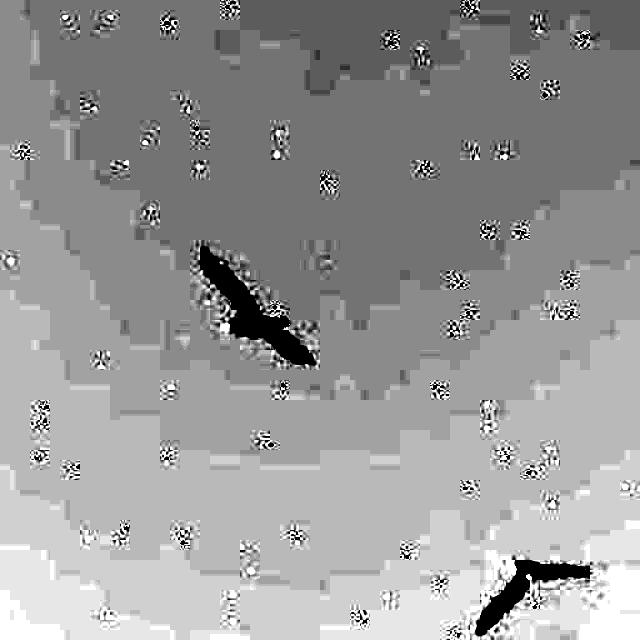airplane: (186, 246, 330, 368), (478, 552, 589, 640)
